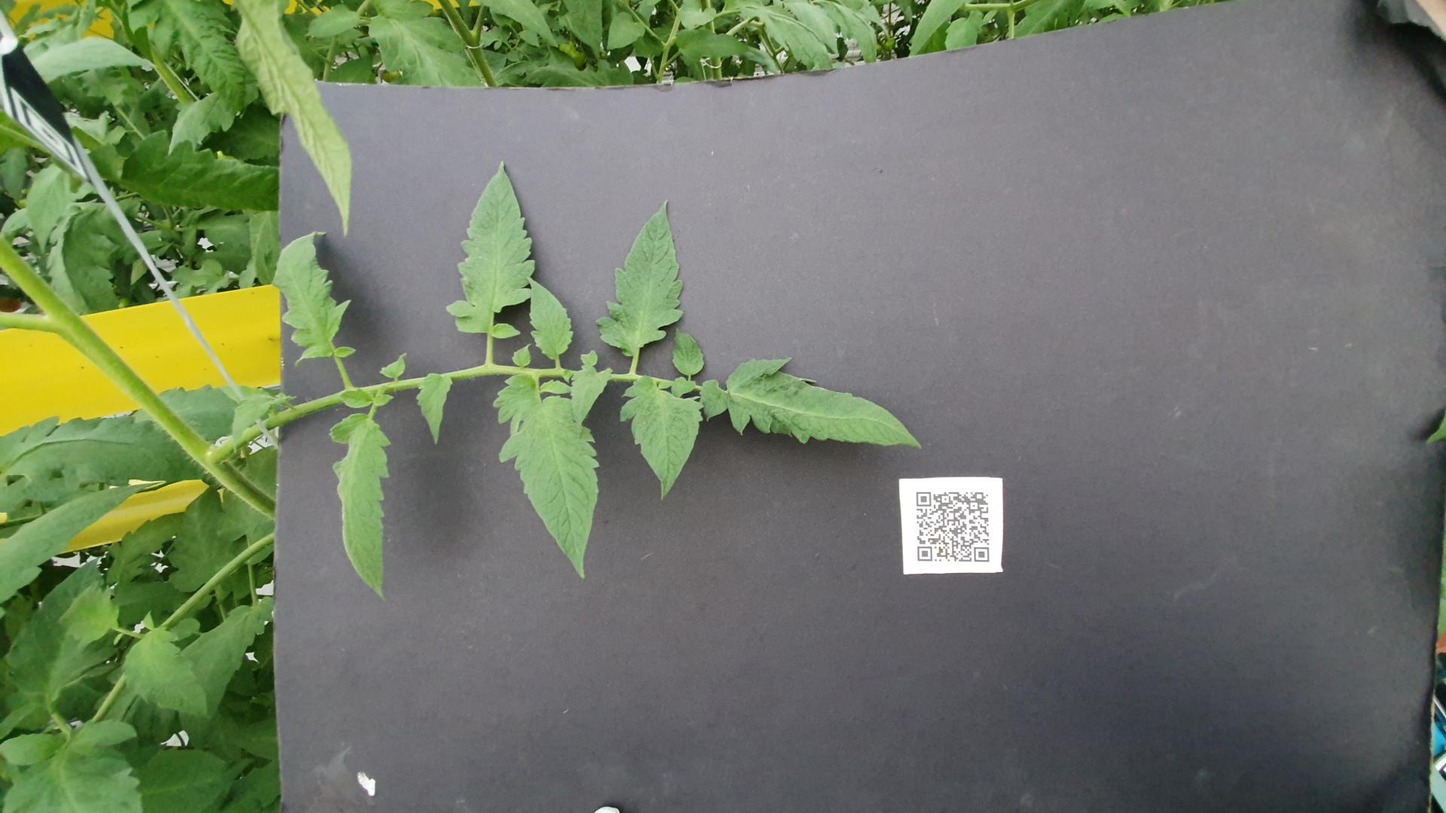Healthy: (1026, 130, 1446, 197), (399, 277, 778, 338), (649, 393, 813, 518), (367, 0, 584, 89), (844, 251, 1161, 302), (1237, 71, 1446, 146), (582, 0, 710, 119), (813, 335, 1091, 385), (1068, 67, 1215, 157), (379, 185, 714, 221), (791, 153, 1039, 200), (558, 347, 778, 396), (1289, 207, 1446, 270), (168, 68, 334, 121), (391, 93, 584, 132), (806, 295, 957, 323), (993, 15, 1156, 39), (660, 320, 797, 345), (653, 233, 783, 255), (1332, 379, 1394, 421), (1374, 170, 1441, 207), (1355, 341, 1425, 363), (781, 378, 863, 396)
